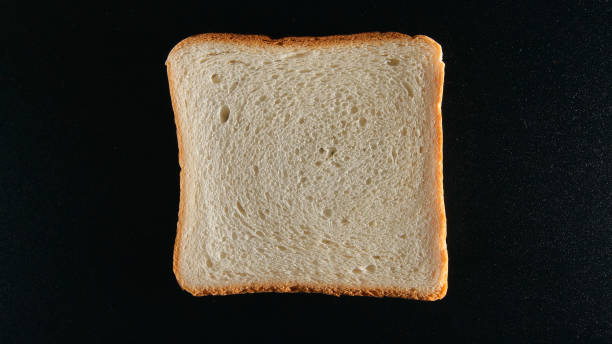slice of bread: (164, 35, 451, 302)
